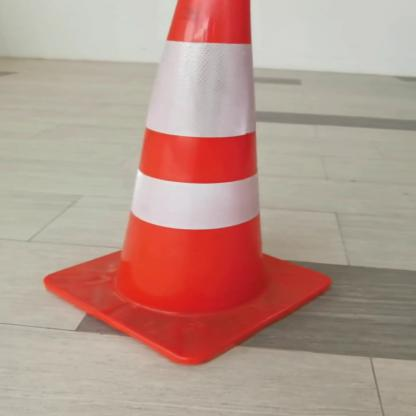cone: (28, 0, 339, 370)
